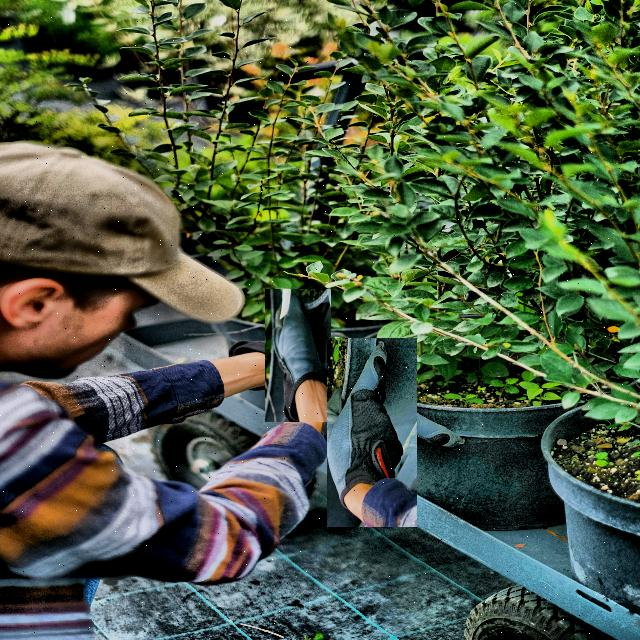gloved: (302, 362, 442, 502), (248, 305, 348, 405)
